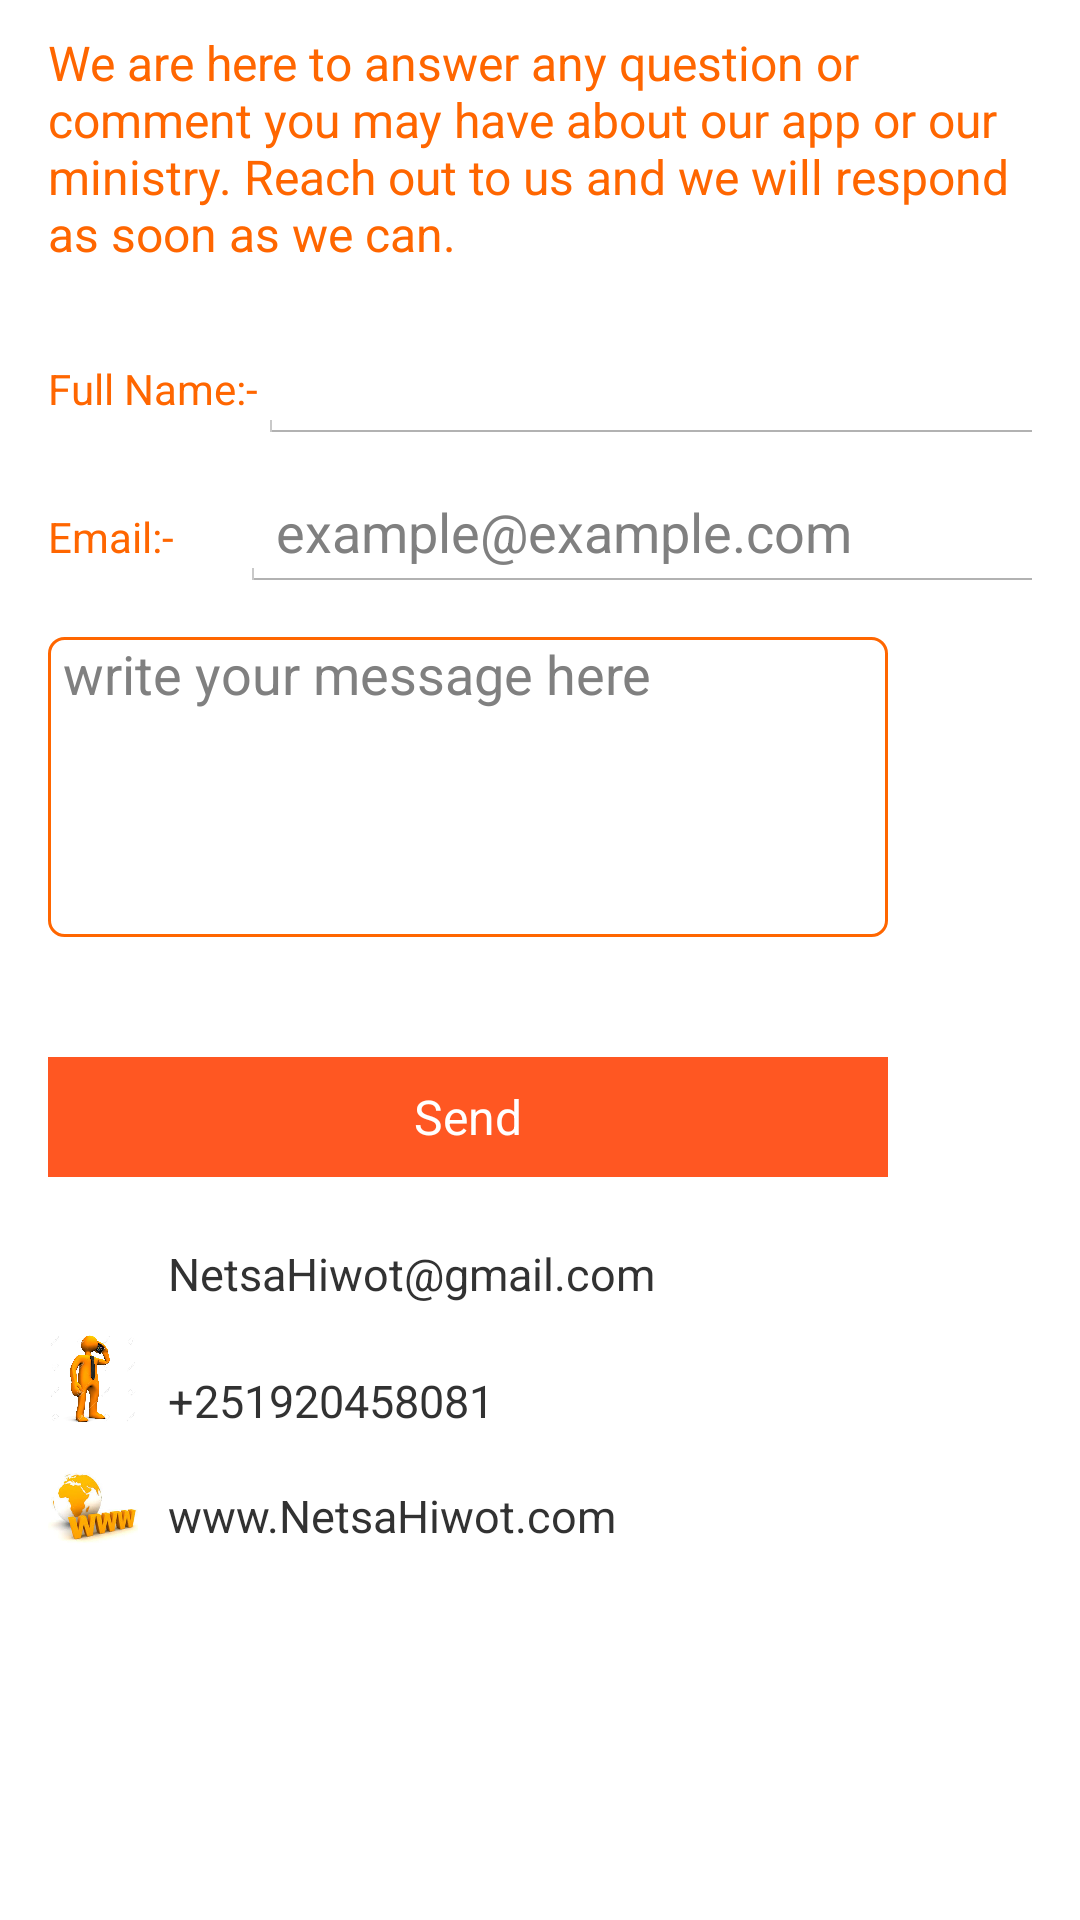

Named icons in this screenshot (1080×1920) and their centers, (x,y):
phone: (80,1378)
website: (95,1507)
